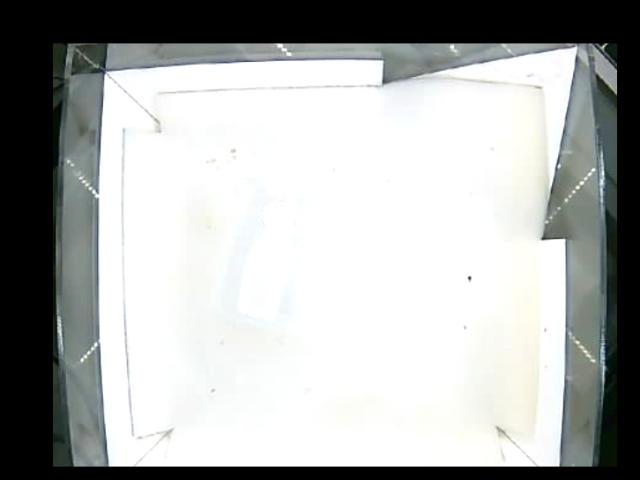Bottle: (229, 180, 311, 325)
